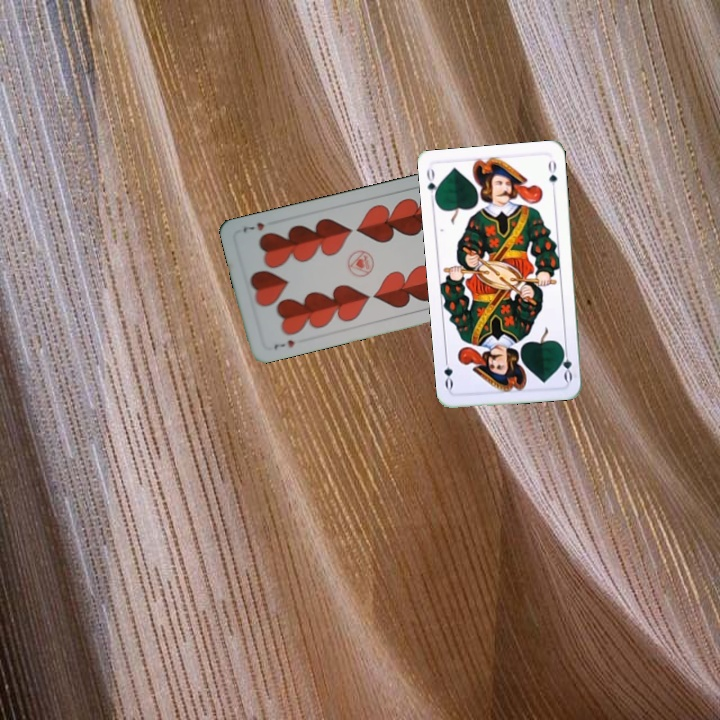GO: (422, 165, 442, 205), (557, 343, 575, 384)
H7: (270, 336, 297, 352)
